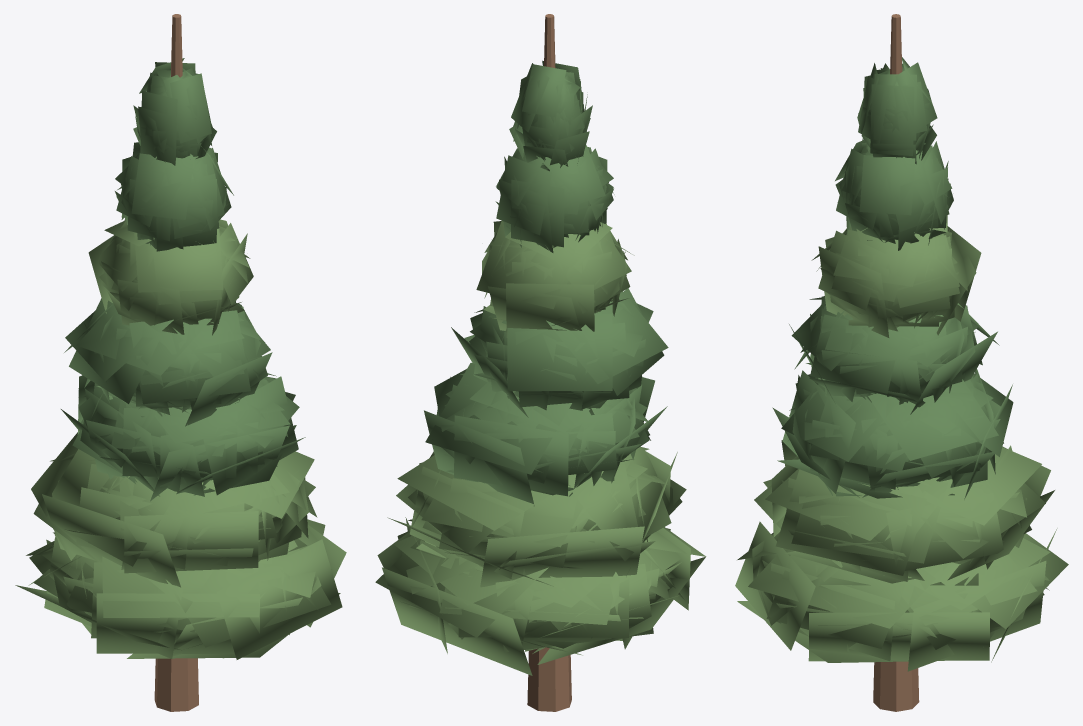
The model's file is WesternRedCedar.glb.
3 views of the same model, side by side, from view 1: azimuth 30°, elevation 25°; view 2: azimuth 150°, elevation 25°; view 3: azimuth 270°, elevation 25° (orthographic).
Visible parts, largest first — view 1: Needle tier.007, Needle tier.008, Needle tier.009, Needle tier.010, Needle tier.011, Needle tier.012, Needle tier.013, Limb.001; view 2: Needle tier.007, Needle tier.008, Needle tier.009, Needle tier.010, Needle tier.011, Needle tier.012, Needle tier.013, Limb.001; view 3: Needle tier.007, Needle tier.008, Needle tier.009, Needle tier.011, Needle tier.010, Needle tier.012, Needle tier.013, Limb.001.
Boxes of the visible parts, x1,y1,x2,y2 form: Needle tier.007: [15, 519, 346, 659]; Needle tier.008: [31, 432, 317, 587]; Needle tier.009: [61, 373, 305, 501]; Needle tier.010: [64, 298, 272, 426]; Needle tier.011: [88, 219, 253, 335]; Needle tier.012: [115, 142, 233, 251]; Needle tier.013: [133, 58, 216, 165]; Limb.001: [154, 14, 198, 711]; Needle tier.007: [375, 517, 706, 675]; Needle tier.008: [387, 446, 686, 587]; Needle tier.009: [424, 362, 667, 506]; Needle tier.010: [451, 288, 668, 417]; Needle tier.011: [476, 221, 634, 337]; Needle tier.012: [495, 145, 614, 252]; Needle tier.013: [509, 60, 592, 171]; Limb.001: [527, 14, 571, 711]; Needle tier.007: [735, 521, 1068, 671]; Needle tier.008: [754, 440, 1054, 585]; Needle tier.009: [772, 369, 1013, 499]; Needle tier.011: [811, 215, 981, 337]; Needle tier.010: [789, 296, 999, 414]; Needle tier.012: [835, 139, 953, 250]; Needle tier.013: [857, 57, 937, 164]; Limb.001: [873, 14, 919, 711].
Size of the model in its own units: 3.98 by 9.41 by 4.15.
